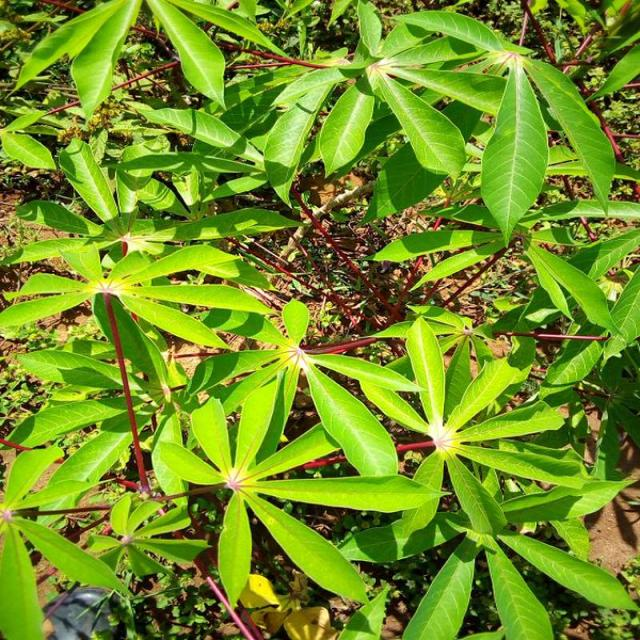cassava leaf: (1, 1, 638, 637), (479, 56, 549, 246)
